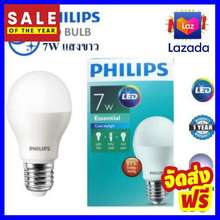Light_bulb: (2, 67, 72, 201), (129, 116, 178, 206)
